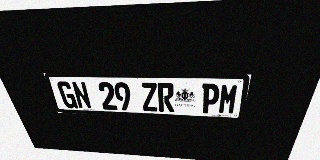2: (97, 82, 118, 110)
9: (113, 82, 133, 111)
G: (56, 81, 78, 109)
M: (218, 84, 240, 114)
N: (71, 81, 92, 109)
P: (201, 83, 220, 114)
R: (157, 83, 174, 112)
Z: (140, 82, 158, 112)
